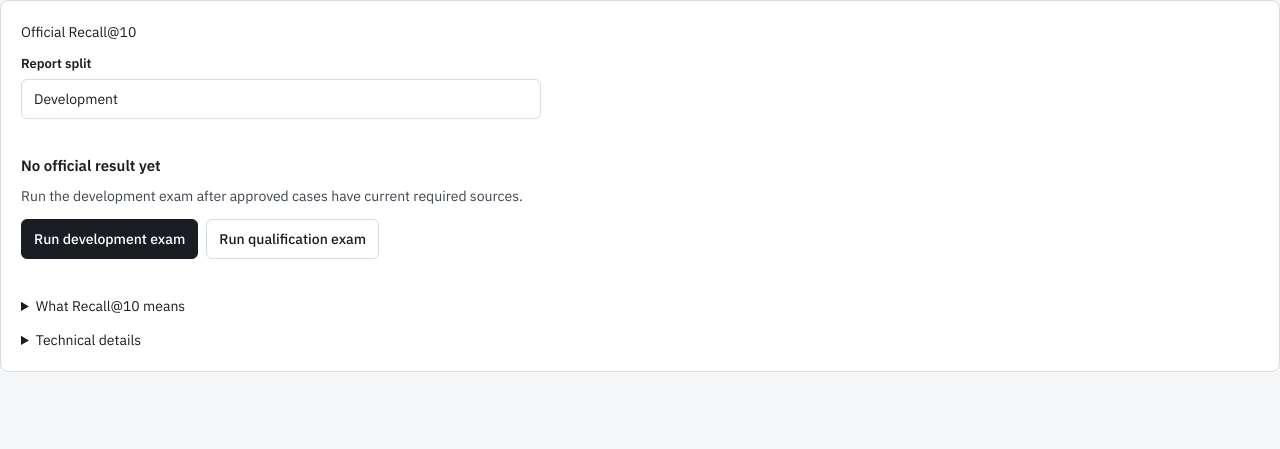
Scenario: EvaluationExamBoard › does not invent an exam id when already_running has no pointer
What coordinates should you click on to do the following:
click the button "Run development exam"
I would click on:
 (110, 239)
Its box is [21, 219, 198, 259].
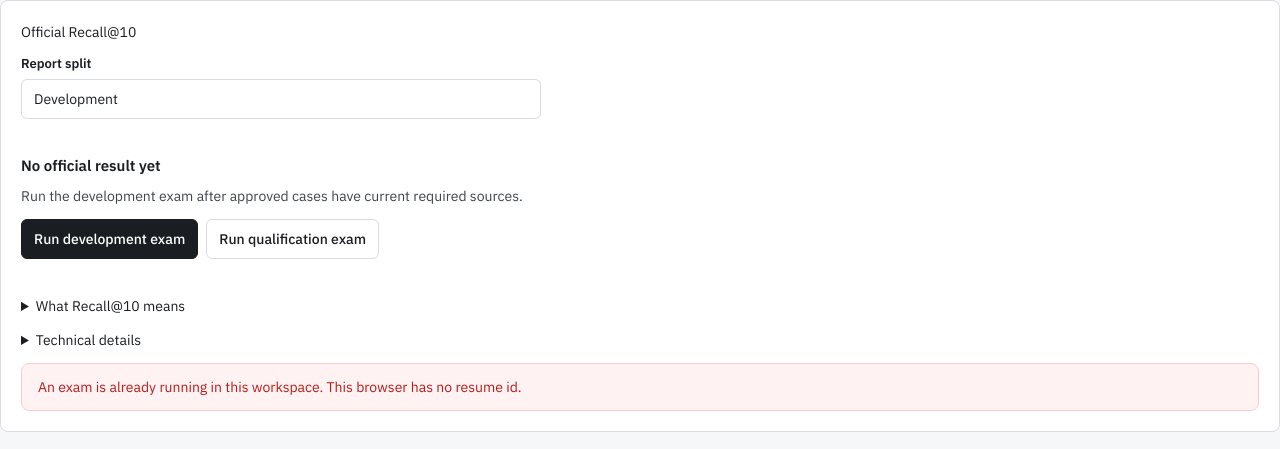
Expected: the text "An exam is already running in this workspace. This browser has no resume id." is shown, [21, 363, 1259, 411]
